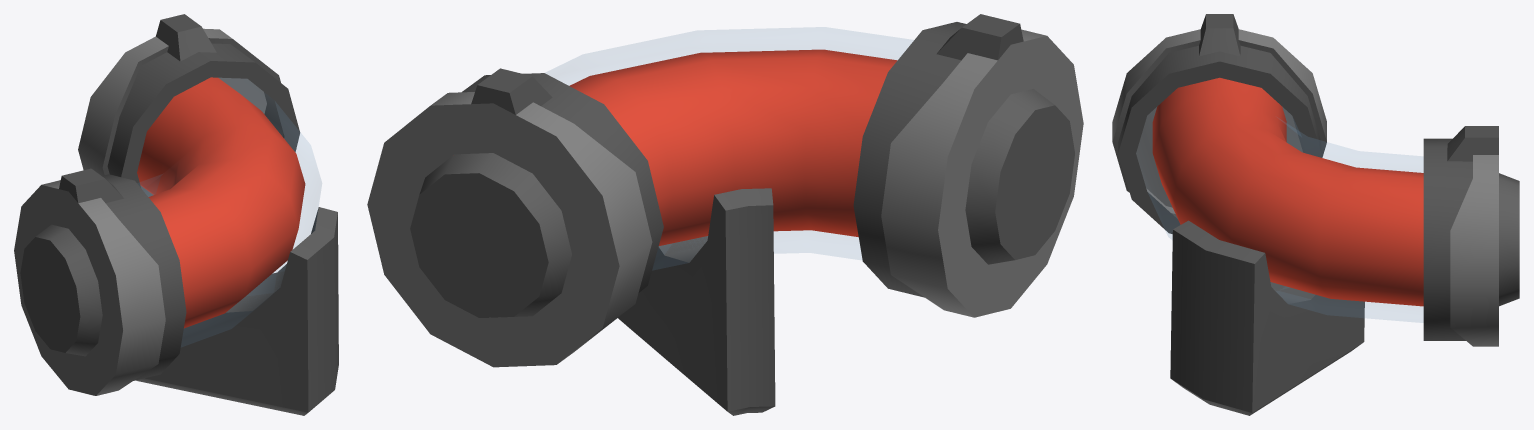
Rendered from Liquid_Red_Pipe_Elbow.fbx.
3 renders of one model, left to right at view 1: azimuth 30°, elevation 25°; view 2: azimuth 150°, elevation 25°; view 3: azimuth 270°, elevation 25°, orthographic. The views are drawn at different scales.
Parts seen in each view (by area): view 1: Liquid_Red_Pipe_Elbow; view 2: Liquid_Red_Pipe_Elbow; view 3: Liquid_Red_Pipe_Elbow.
Part boxes in pixels (<box>): Liquid_Red_Pipe_Elbow: <box>14,14,338,415</box>; Liquid_Red_Pipe_Elbow: <box>367,14,1083,415</box>; Liquid_Red_Pipe_Elbow: <box>1112,14,1519,415</box>.
Size of the model in its own units: 146 by 107 by 146.
